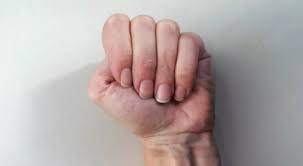fist: (87, 11, 223, 146)
